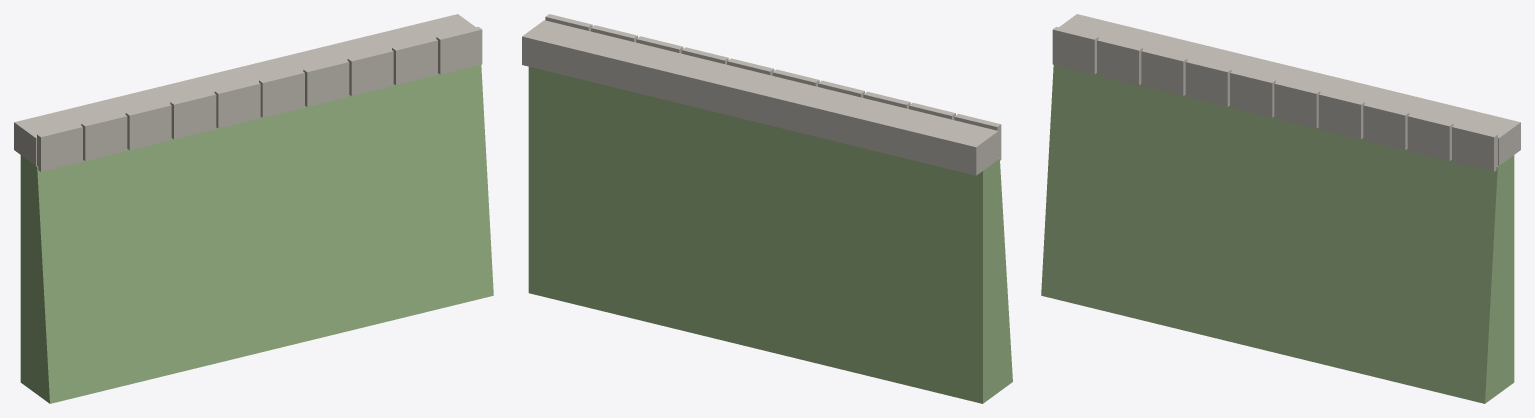
File: r-142-charles-granite-edge-grass-bank.glb
The picture shows the model from 3 angles, left to right: view 1: azimuth 30°, elevation 25°; view 2: azimuth 150°, elevation 25°; view 3: azimuth 330°, elevation 25°; orthographic projection. The views are drawn at different scales.
Parts seen in each view (by area): view 1: grass-bank, granite-wall; view 2: grass-bank, granite-wall; view 3: grass-bank, granite-wall.
Boxes of the visible parts, x1,y1,x2,y2 form: grass-bank: (20,65,493,403); granite-wall: (14,14,482,171); grass-bank: (528,66,1012,403); granite-wall: (522,14,1001,175); grass-bank: (1041,65,1514,403); granite-wall: (1052,14,1520,171).
Bounding box in the file's own units: 20000 × 11150 × 2800.
